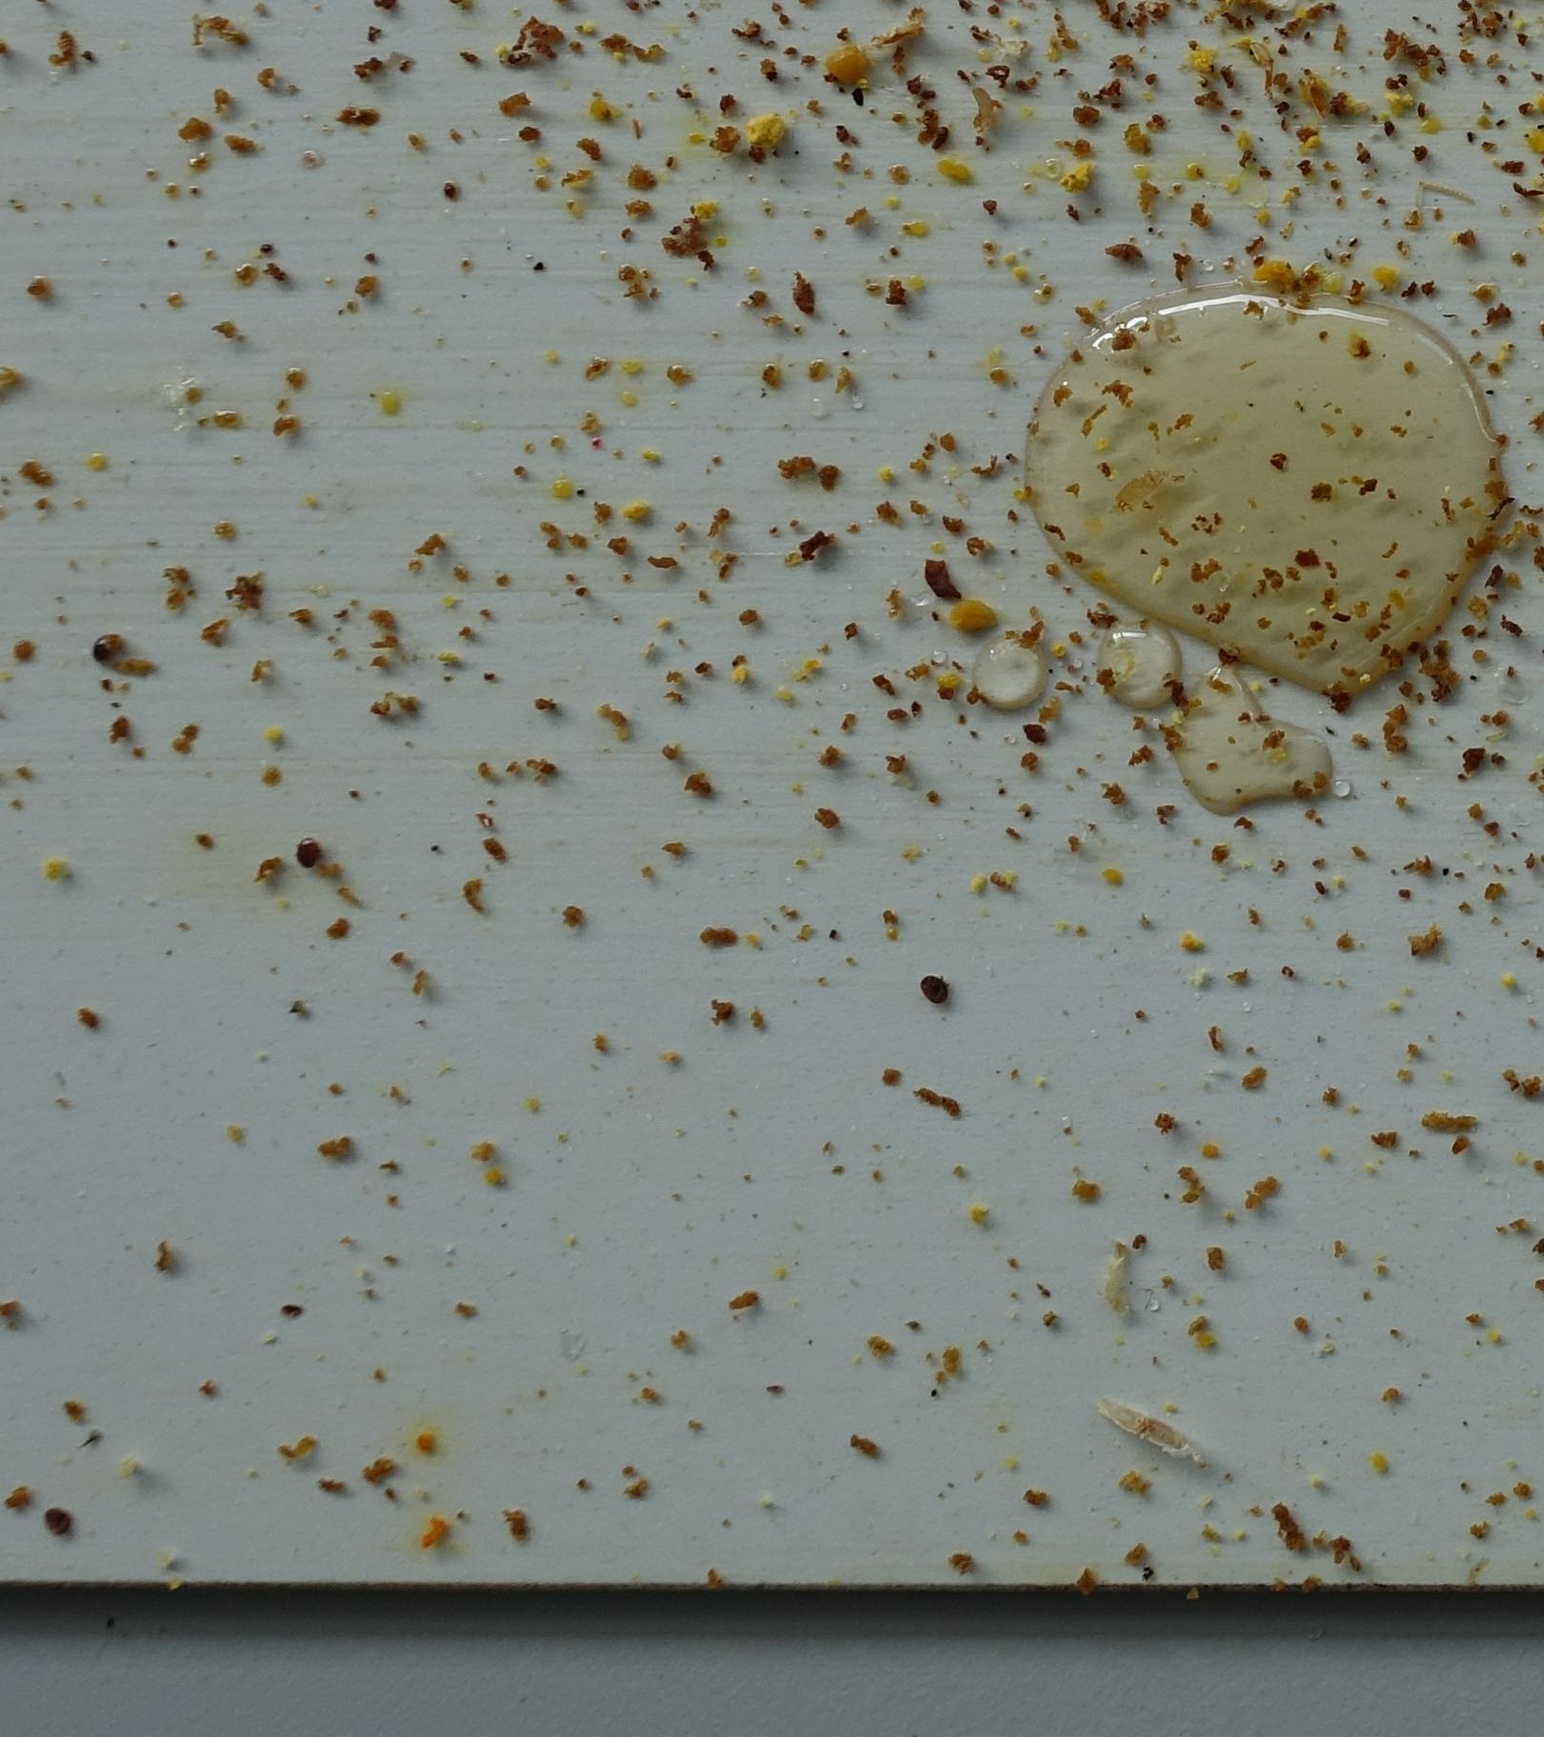Varroa: (85, 633, 121, 669), (292, 845, 322, 874), (921, 976, 948, 1004), (46, 1508, 72, 1534)
